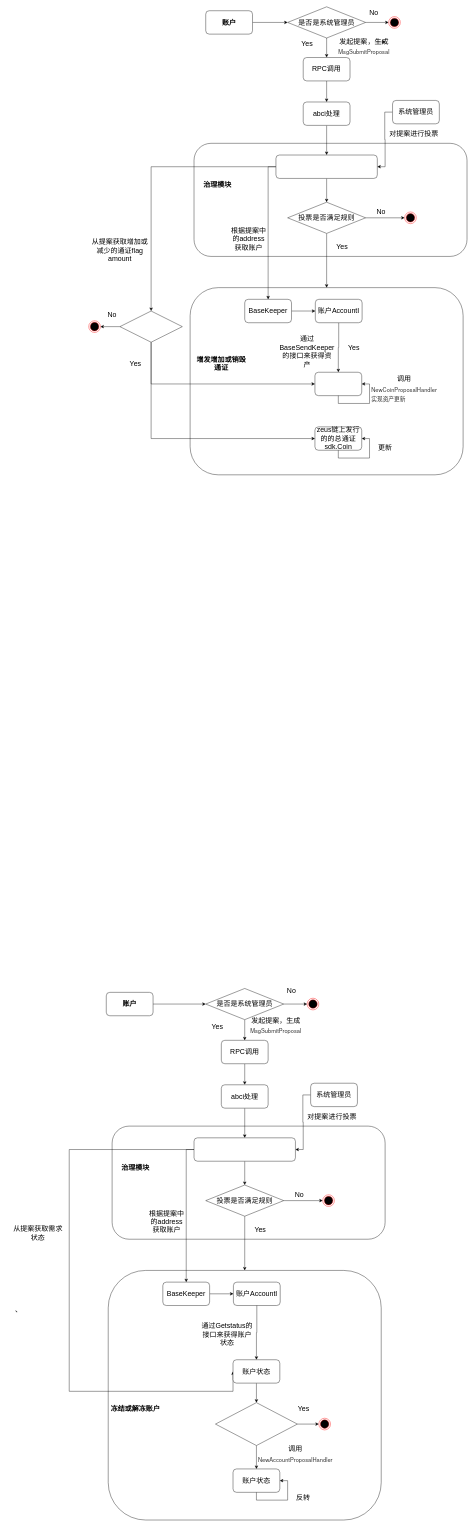
Some shapes in this 474 by 1533 pixel diagram are drawn without their labels. Each missing label, with the centre of its shape:
提案 FrozenProposal /Un FrozenProposal: (x=244, y=1149)
提案 MintCoinProposal/BurnCoinProposal: (x=326, y=166)
该账户资产sdk.Coin: (x=338, y=384)
账户状态是否和提案状态相同: (x=256, y=1424)
通证是否合规: (x=151, y=326)
